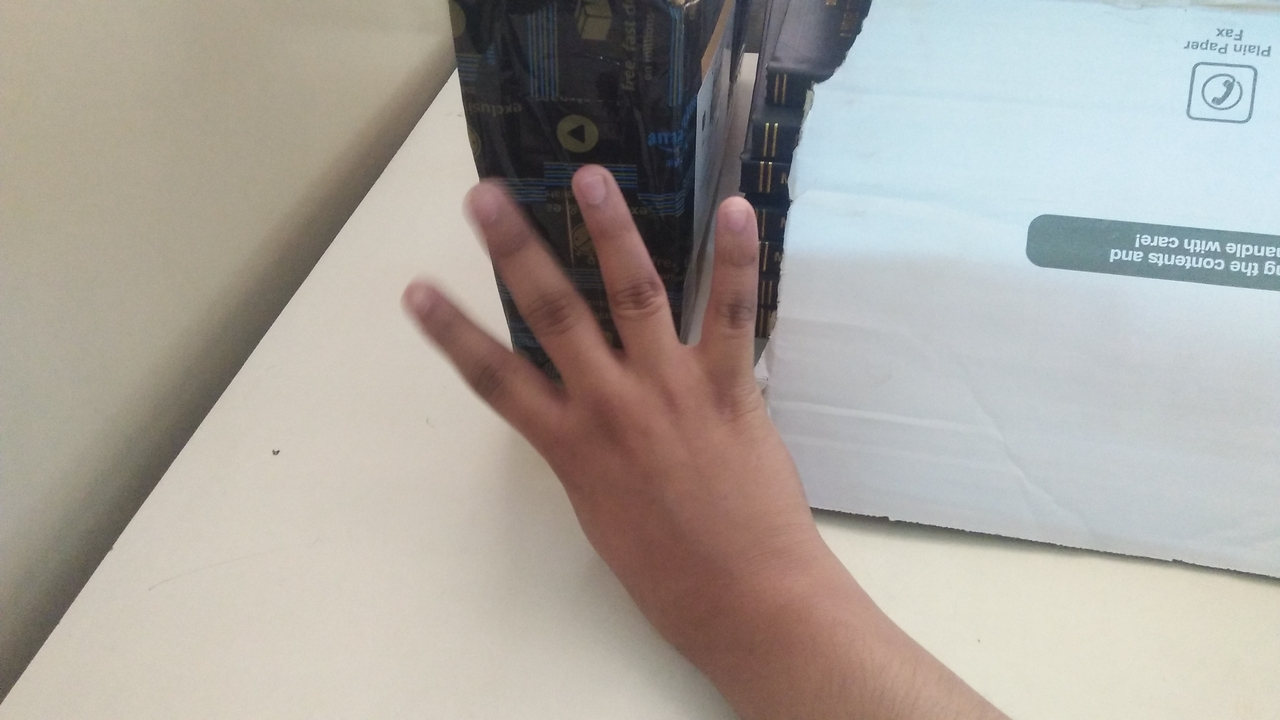fingertip: (450, 174, 524, 232), (386, 270, 458, 324), (562, 156, 622, 214), (706, 184, 760, 246)
